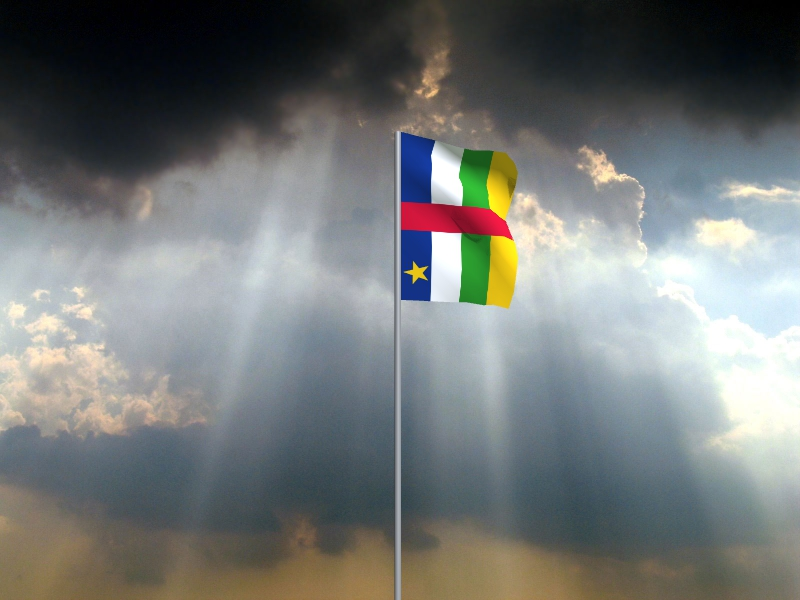cf: (402, 133, 520, 311)
